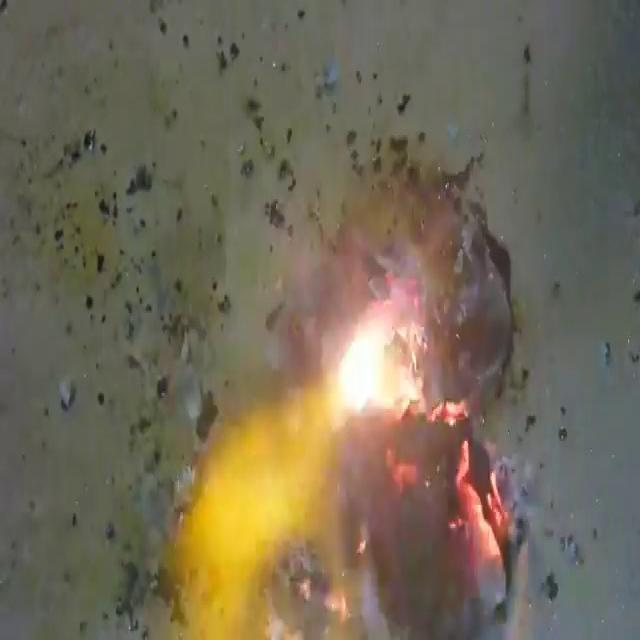Fire: (176, 89, 554, 622)
